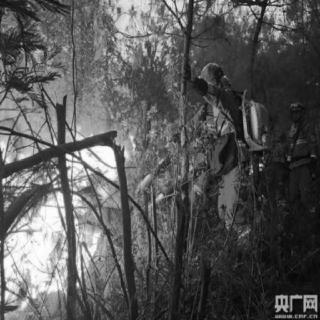Fire: (2, 102, 140, 310)
